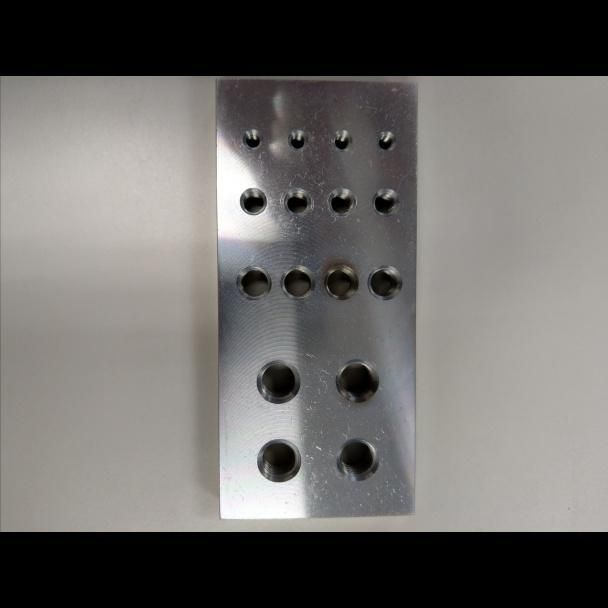hole: (334, 358, 379, 404), (256, 438, 302, 483), (255, 359, 300, 405), (336, 437, 379, 481), (279, 264, 316, 302), (235, 264, 272, 302), (366, 264, 402, 300), (323, 264, 359, 300), (326, 187, 357, 218), (238, 186, 267, 216), (371, 188, 400, 217), (283, 187, 311, 217), (331, 129, 353, 153), (286, 129, 308, 151), (242, 128, 263, 151), (375, 130, 396, 152)
